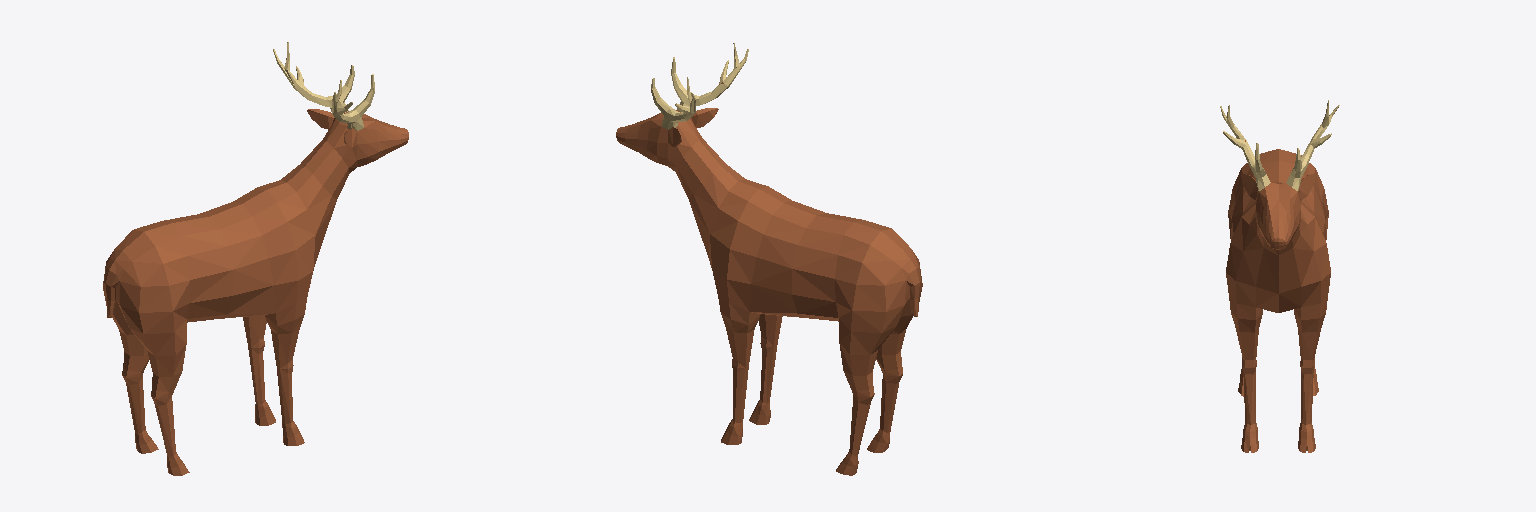
Rendered from Deer.obj.
3 renders of one model, left to right at view 1: azimuth 30°, elevation 25°; view 2: azimuth 150°, elevation 25°; view 3: azimuth 270°, elevation 25°, orthographic.
Visible parts, largest first — view 1: Deer; view 2: Deer; view 3: Deer.
Part boxes in pixels (bbox=[...]): Deer: bbox=[103, 42, 408, 475]; Deer: bbox=[616, 43, 922, 475]; Deer: bbox=[1220, 100, 1339, 452].
Bounding box in the file's own units: 195 × 226 × 67.11.